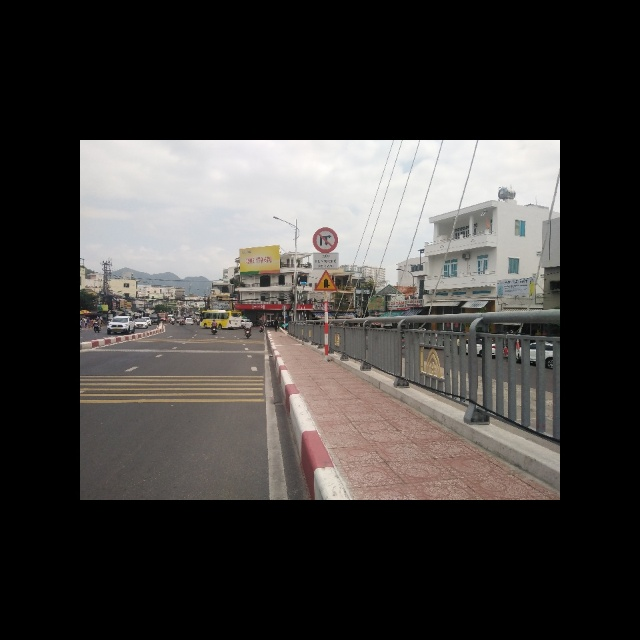Cấm quay đầu và rẽ phải: (312, 226, 338, 253)
Giao nhau với đường không ưu tiên: (315, 269, 339, 290)
